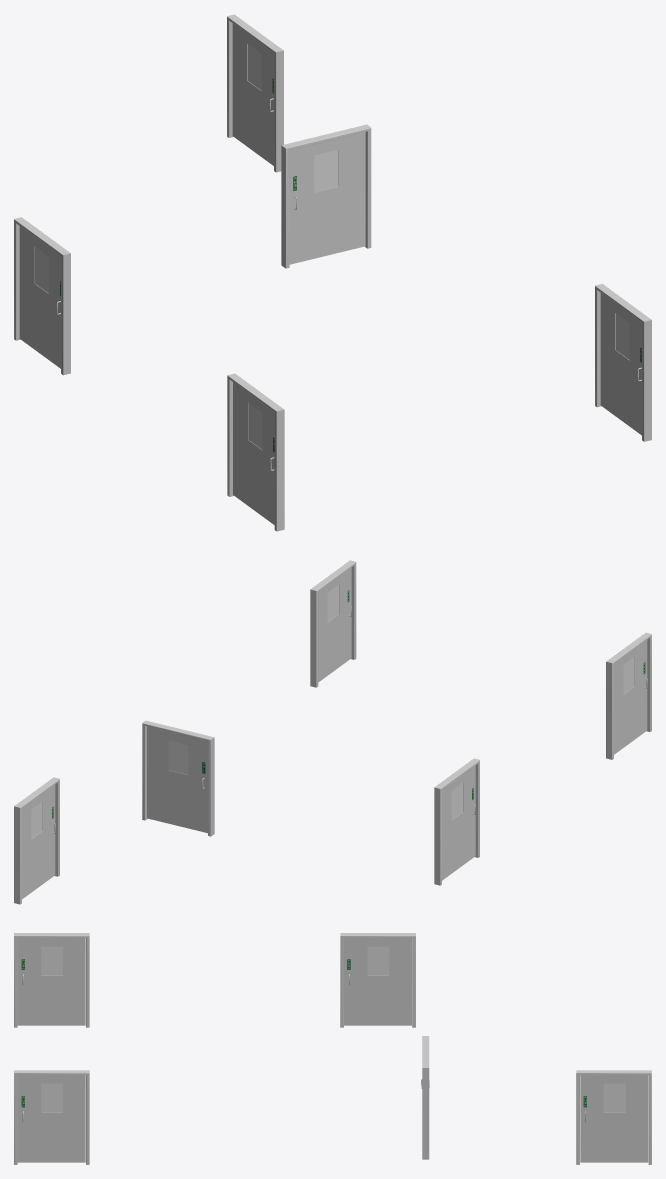
File: doors.fbx
3 views of the same model, one above another, from view 1: azimuth 30°, elevation 25°; view 2: azimuth 150°, elevation 25°; view 3: azimuth 270°, elevation 25° (orthographic). The views are drawn at different scales.
Parts seen in each view (by area): view 1: Cube.022, Cube.014, Cube.016, Cube.018, Cube.020, doorframe.002, doorframe.005, doorframe.001, doorframe.003, doorframe.004; view 2: Cube.022, Cube.014, Cube.016, Cube.018, Cube.020, doorframe.001, doorframe.004, doorframe.002, doorframe.003, doorframe.005; view 3: Cube.014, Cube.016, Cube.020, Cube.018, doorframe.001, doorframe.002, doorframe.003, doorframe.004, doorframe.005.
Boxes of the visible parts, left/top/right/bottom form: Cube.022: left=289, top=132, right=365, bottom=264; Cube.014: left=600, top=293, right=641, bottom=435; Cube.016: left=233, top=382, right=274, bottom=524; Cube.018: left=19, top=226, right=60, bottom=368; Cube.020: left=232, top=23, right=273, bottom=165; doorframe.002: left=227, top=373, right=284, bottom=531; doorframe.005: left=281, top=124, right=371, bottom=268; doorframe.001: left=595, top=283, right=651, bottom=441; doorframe.003: left=14, top=217, right=70, bottom=375; doorframe.004: left=227, top=14, right=283, bottom=172; Cube.022: left=147, top=726, right=207, bottom=833; Cube.014: left=318, top=567, right=351, bottom=682; Cube.016: left=614, top=640, right=647, bottom=754; Cube.018: left=442, top=765, right=475, bottom=880; Cube.020: left=22, top=784, right=55, bottom=899; doorframe.001: left=310, top=560, right=356, bottom=687; doorframe.004: left=14, top=777, right=59, bottom=904; doorframe.002: left=606, top=632, right=651, bottom=759; doorframe.003: left=434, top=758, right=479, bottom=885; doorframe.005: left=142, top=720, right=214, bottom=836; Cube.014: left=17, top=1075, right=85, bottom=1162; Cube.016: left=17, top=938, right=85, bottom=1025; Cube.020: left=580, top=1075, right=648, bottom=1162; Cube.018: left=344, top=938, right=411, bottom=1025; doorframe.001: left=14, top=1070, right=89, bottom=1164; doorframe.002: left=14, top=933, right=89, bottom=1027; doorframe.003: left=340, top=933, right=415, bottom=1027; doorframe.004: left=576, top=1070, right=651, bottom=1164; doorframe.005: left=422, top=1036, right=429, bottom=1159.
Size of the model in its own units: 615 by 187 by 1180.
